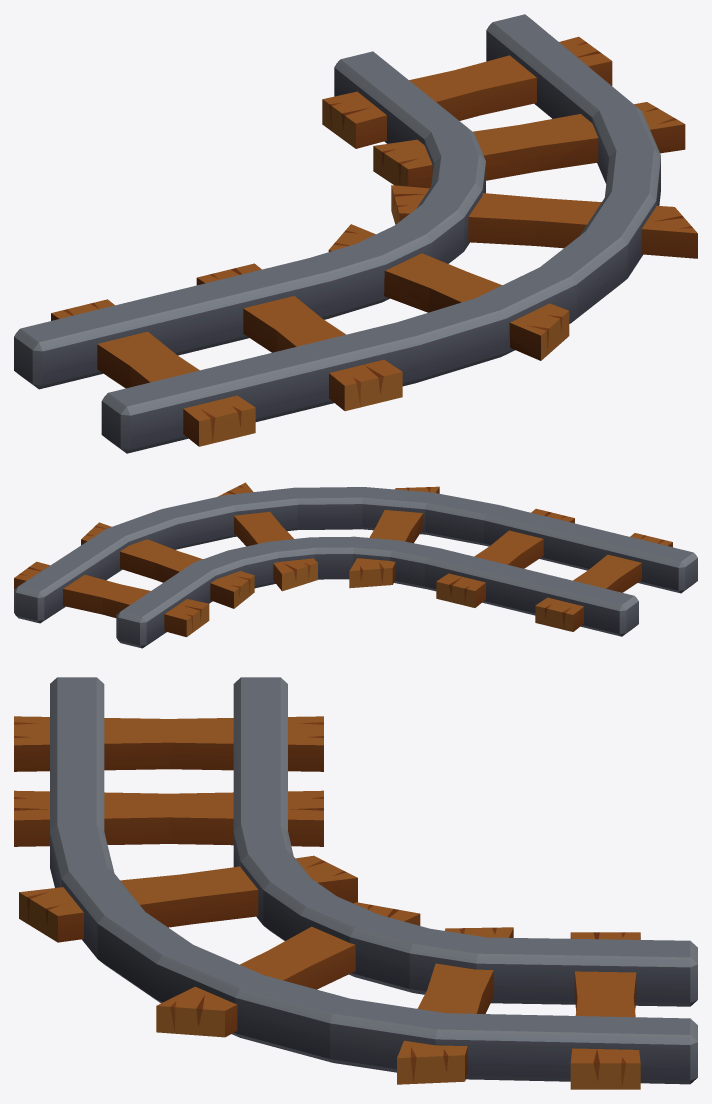
The model's file is railway_4.glb.
3 renders of one model, top to bottom at view 1: azimuth 30°, elevation 25°; view 2: azimuth 150°, elevation 25°; view 3: azimuth 270°, elevation 25°, orthographic. The views are drawn at different scales.
Visible parts, largest first — view 1: railway_4; view 2: railway_4; view 3: railway_4.
Part boxes in pixels (bbox=[...]): railway_4: bbox=[14, 14, 697, 453]; railway_4: bbox=[14, 482, 697, 648]; railway_4: bbox=[14, 677, 697, 1089].
Size of the model in its own units: 1.74 by 0.1065 by 1.34.
1 material, 1 textured.
